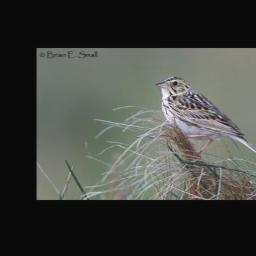Sparrow: (154, 75, 256, 160)
